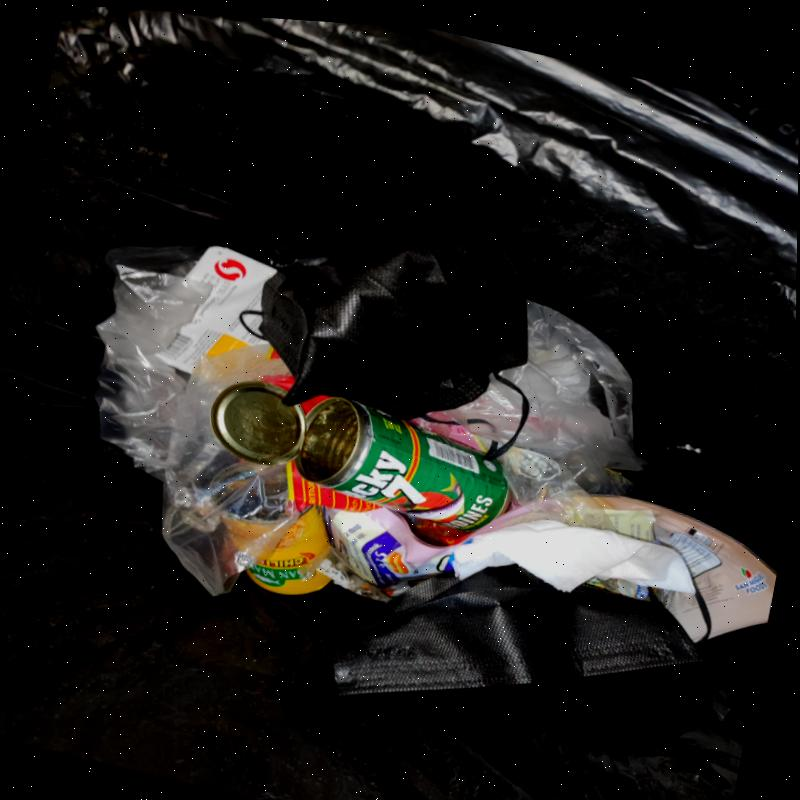aluminum: (210, 382, 512, 534), (246, 505, 331, 597)
facemask: (259, 223, 529, 422), (332, 564, 704, 697)
food wrapper: (593, 497, 777, 644), (286, 460, 455, 589), (156, 246, 277, 375)
paper: (449, 520, 697, 595)
plastic bag: (93, 266, 305, 598), (409, 300, 651, 498)
